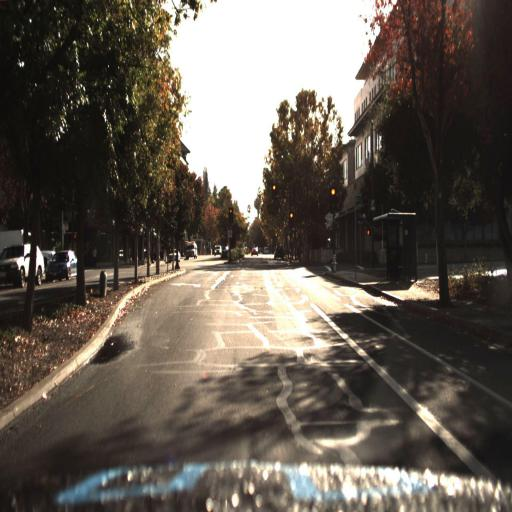car: (0, 240, 45, 294), (0, 242, 46, 288), (46, 242, 83, 284), (50, 248, 80, 281), (210, 238, 223, 260), (184, 239, 198, 259), (165, 248, 181, 264), (167, 248, 180, 264), (272, 246, 285, 262), (212, 240, 222, 258)
trafficLight: (268, 182, 276, 201)
trafficLight-Red: (329, 187, 337, 211), (226, 203, 234, 222), (289, 206, 296, 226)
trafficLight-RedLeft: (227, 206, 236, 226)
trafficLight-Yellow: (328, 183, 338, 197), (286, 210, 294, 220)
